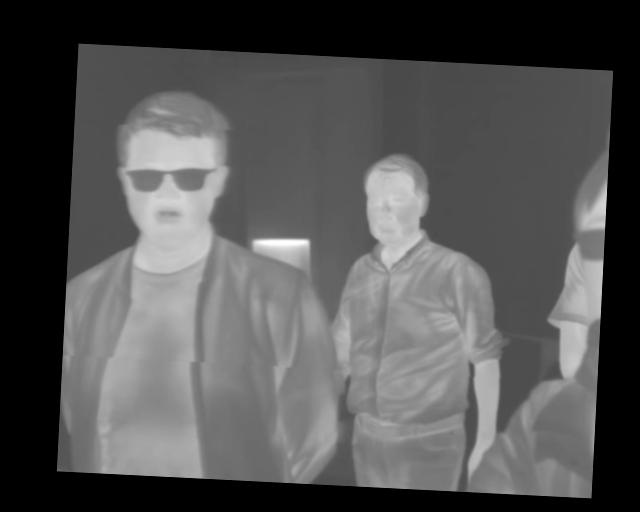face: (111, 85, 234, 251), (359, 150, 432, 246)
